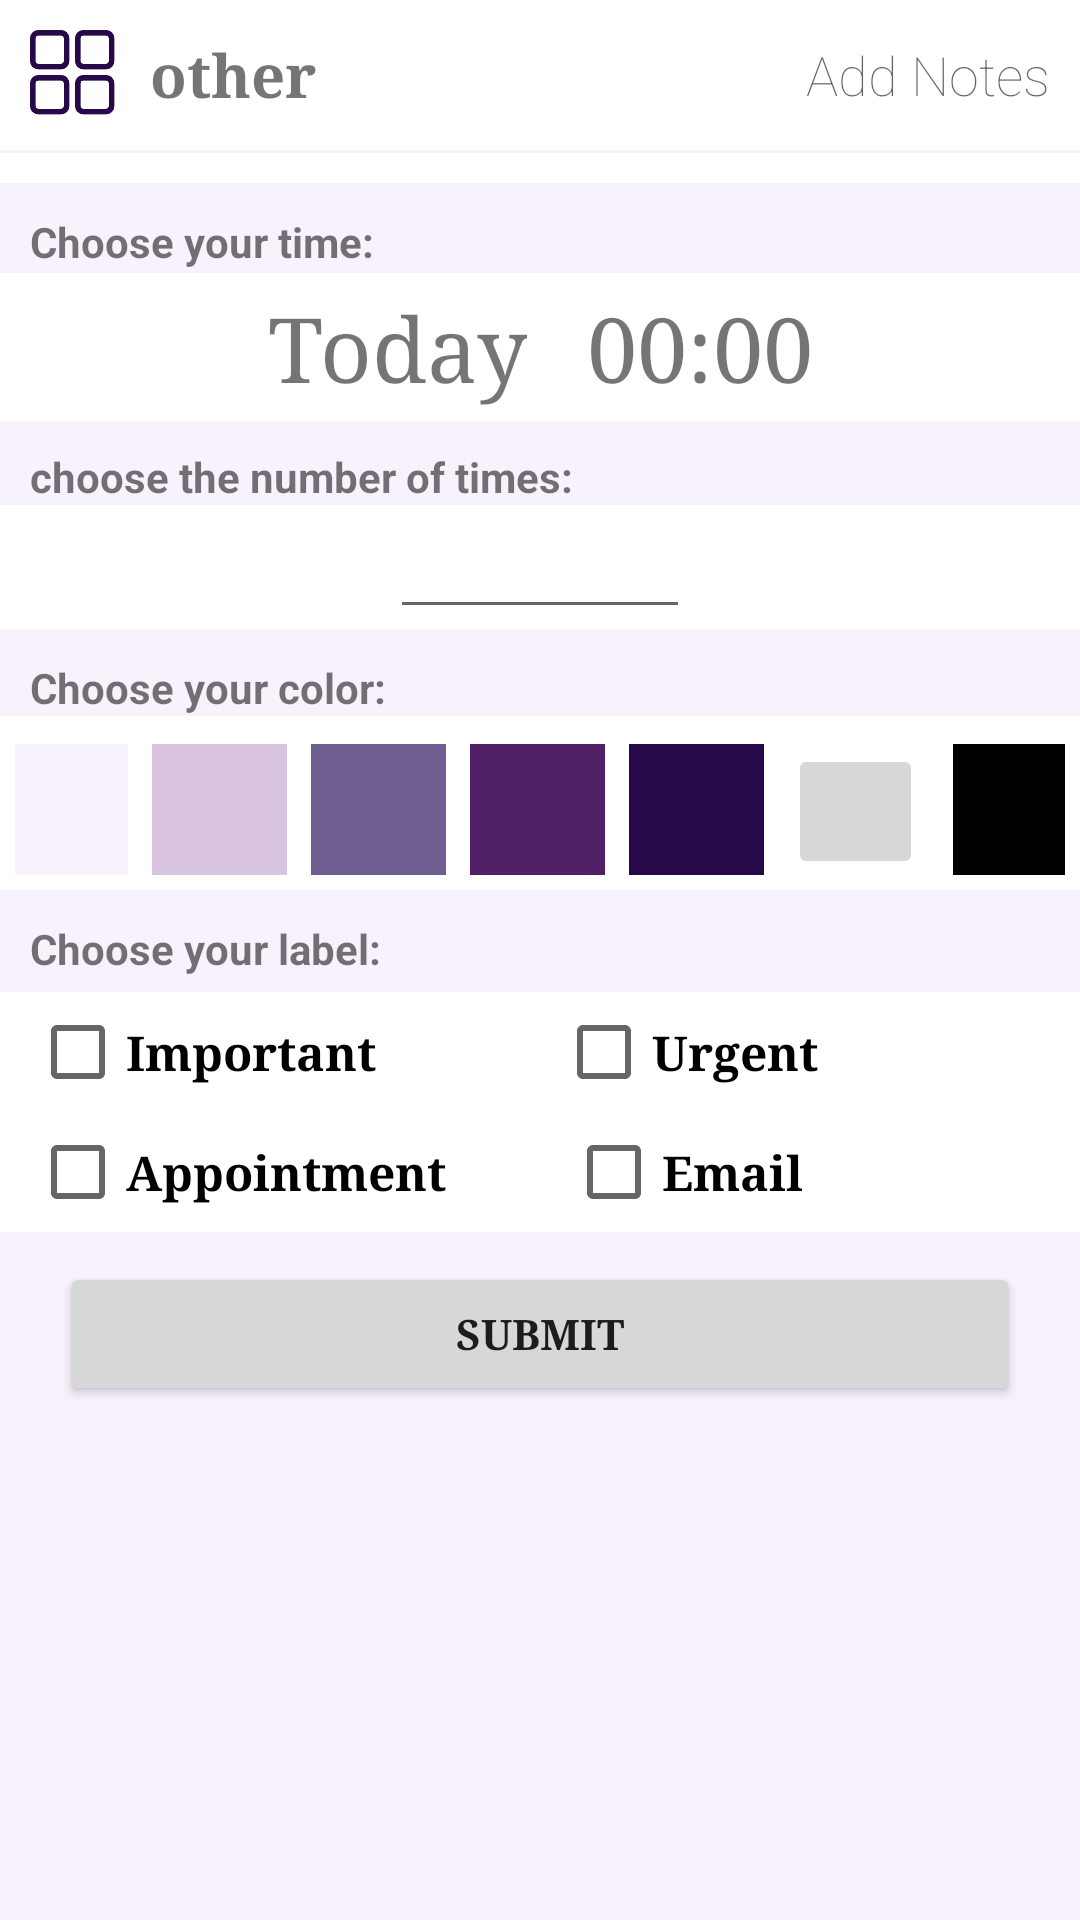

Icons on this 1080px x 1920px Android screen, each with its box as (x1, y1, x2, y2):
item more: (30, 30, 115, 115)
